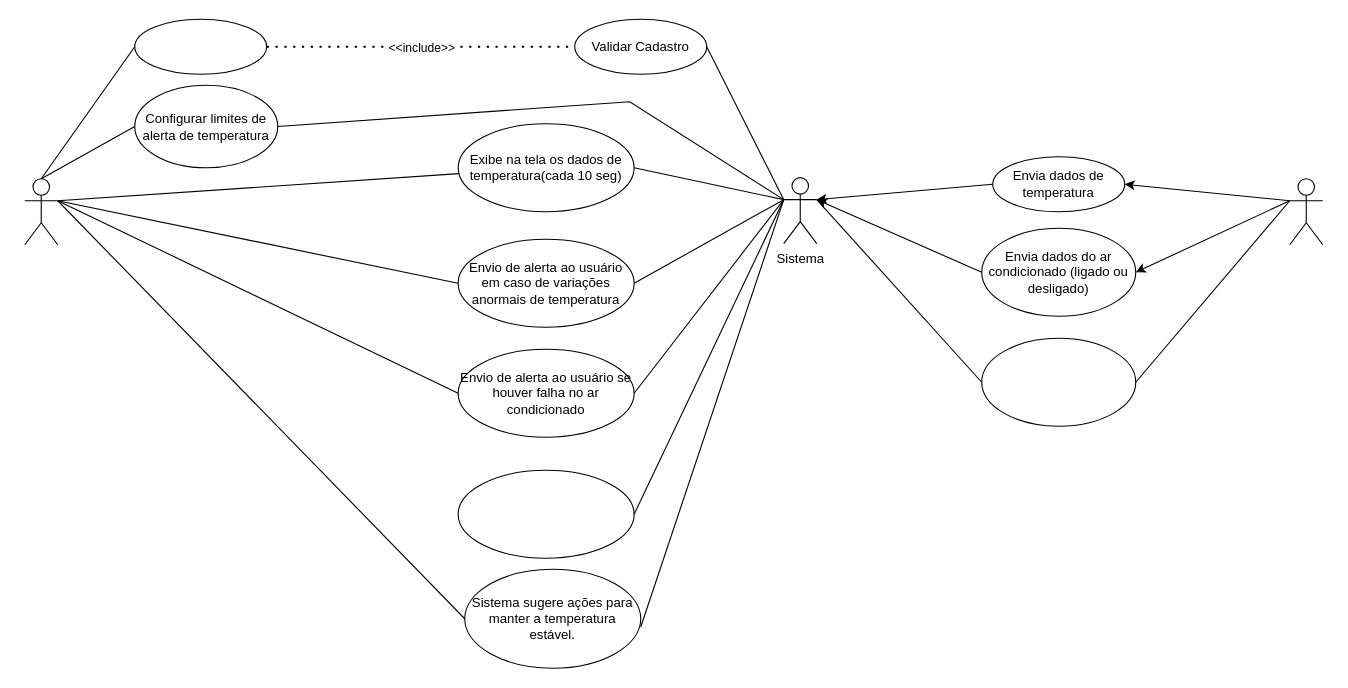
The diagram is 1348 pixels wide and 688 high, and some of its shapes have lost their labels. The box of each missing label's shape, as (x1, y1, x2, y2) in pixels:
Arduino: (1289, 178, 1323, 245)
Calibrar sensores de temperatura: (981, 337, 1136, 426)
Logar: (134, 18, 267, 74)
Registrar acessos e modificações realizadas no sistema: (457, 469, 634, 558)
Usuário: (24, 178, 58, 245)
